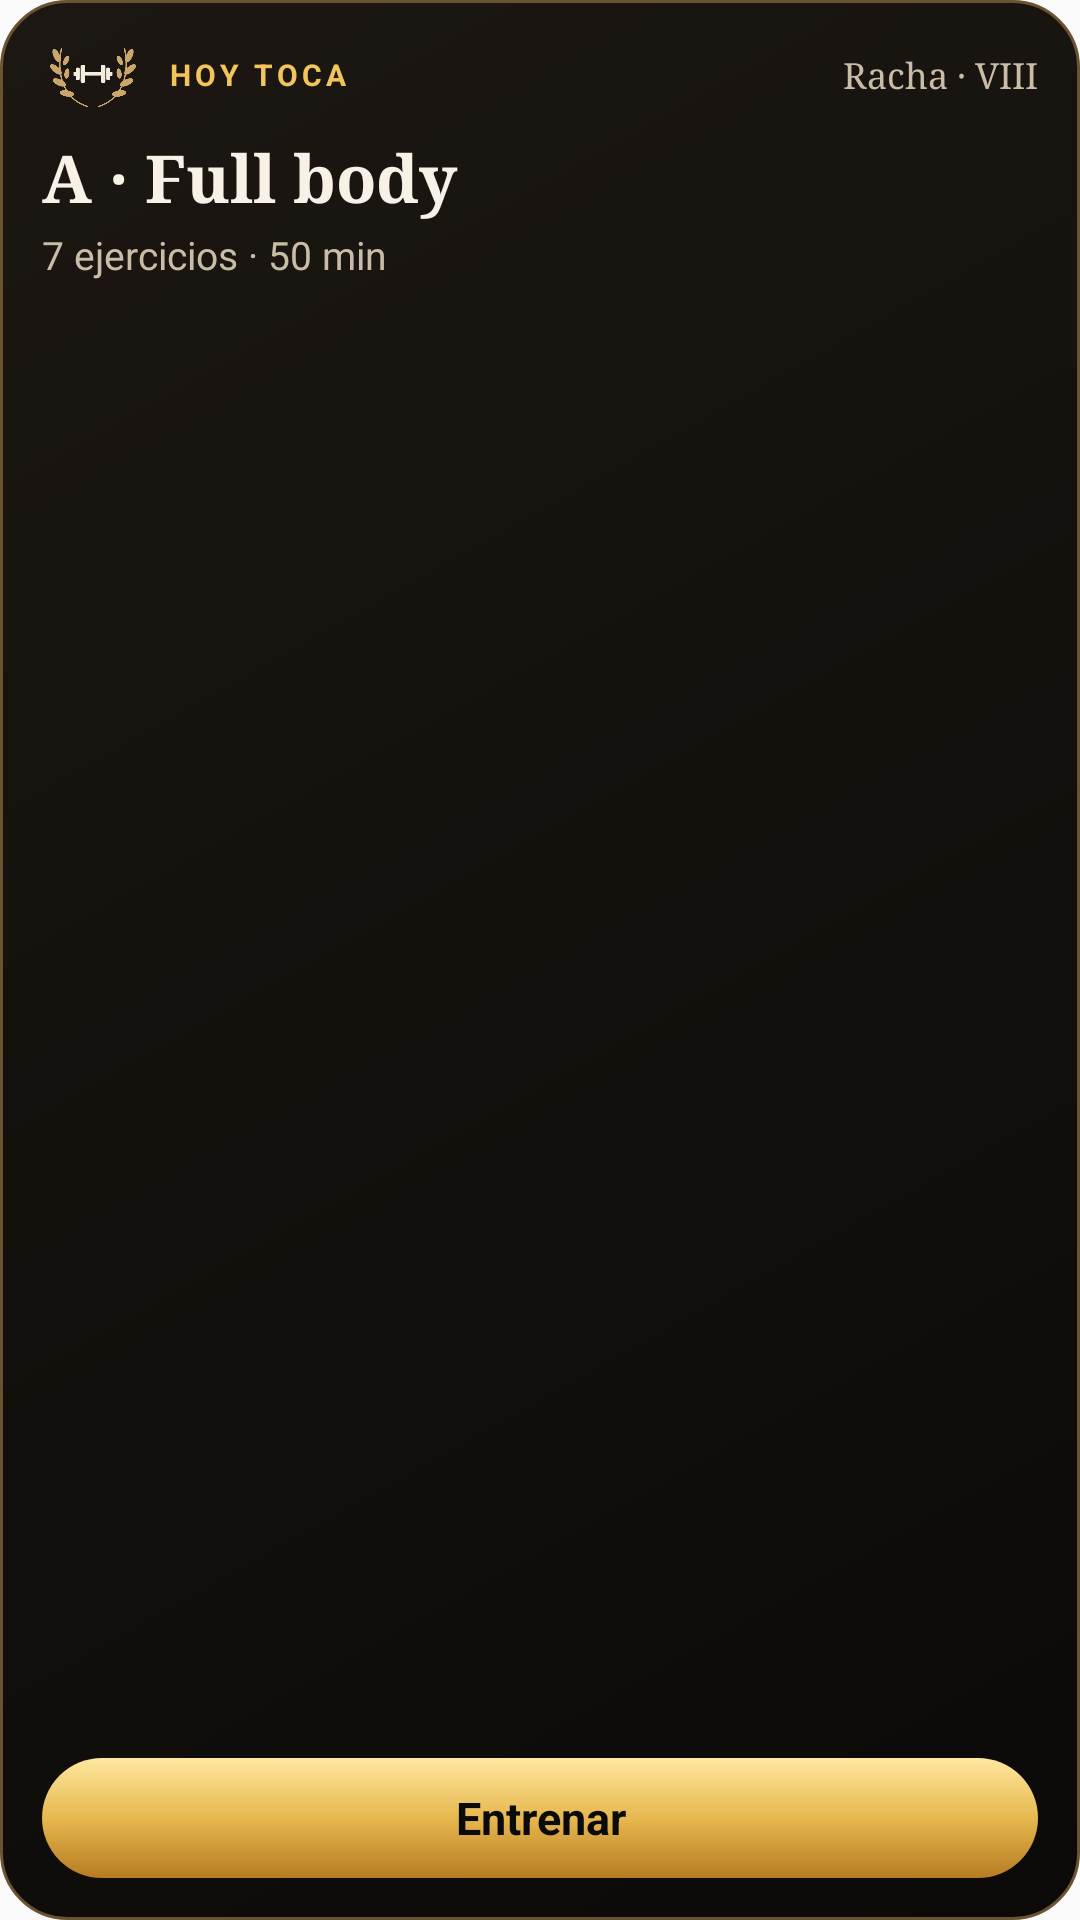

Icon bounding boxes for this 1080 × 1920 phone screenshot, format bbox=[x1, y1, x2, y2]:
widget emblema: bbox=[50, 48, 136, 107]
